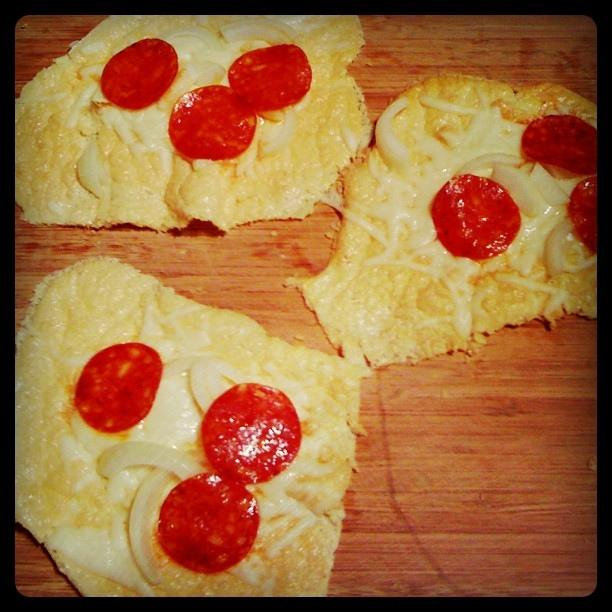onion: (128, 466, 176, 584), (97, 440, 209, 482), (146, 380, 200, 445), (491, 162, 550, 218), (161, 353, 252, 384), (256, 104, 298, 160), (190, 359, 232, 414), (218, 17, 296, 46), (378, 96, 411, 160), (546, 217, 576, 278), (157, 25, 225, 51), (530, 162, 570, 204), (455, 153, 525, 175), (78, 140, 103, 199), (561, 242, 597, 273), (188, 61, 226, 87)
